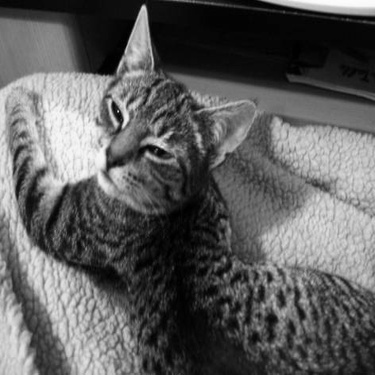cat: (7, 1, 369, 371)
